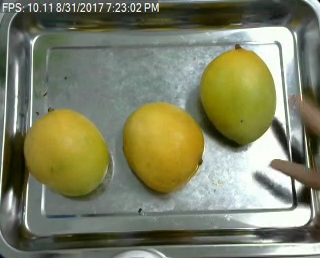Mango: (24, 108, 109, 200), (123, 99, 202, 192), (200, 48, 276, 144)
